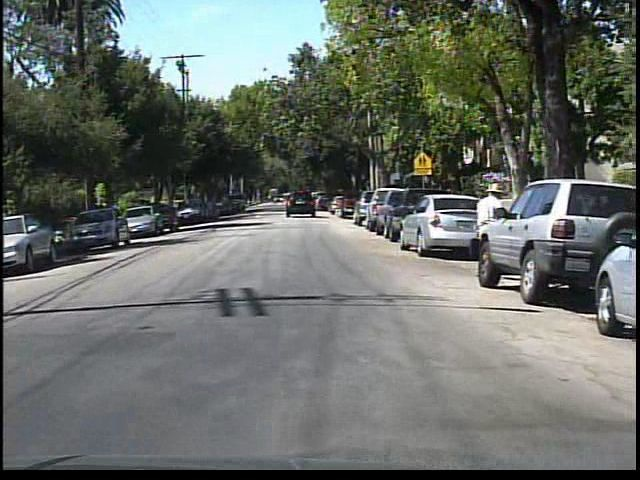person: (465, 179, 508, 285)
